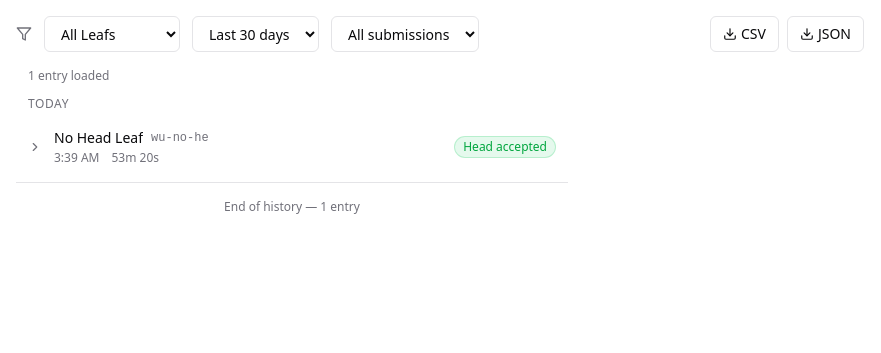
it: HistoryPage › detail section shows dash for head when head_name is empty
This screenshot has width=881, height=353.
Click the text "No Head Leaf" at (98, 138), box left=54, top=128, right=143, bottom=148
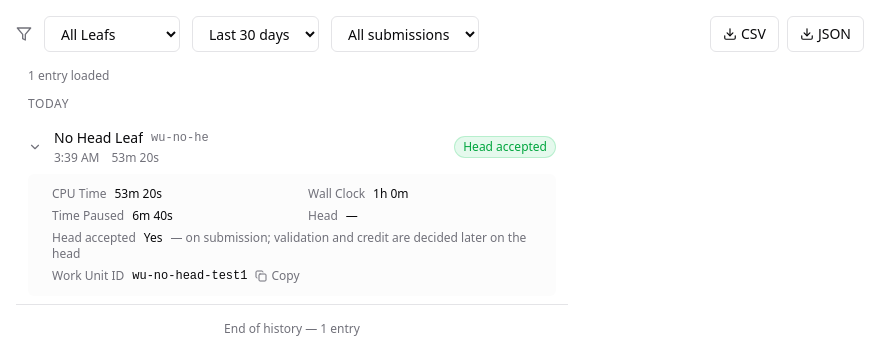
Expected: the text with class "font-medium" reads "—", left=346, top=207, right=358, bottom=224
